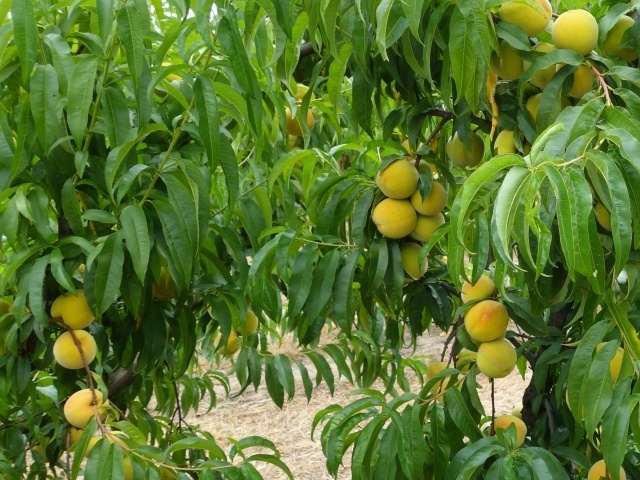peach: (543, 6, 601, 60), (363, 192, 418, 245), (48, 326, 101, 377), (463, 298, 516, 348), (44, 289, 99, 337), (474, 331, 523, 383), (372, 155, 424, 202), (491, 120, 538, 170), (600, 12, 640, 68), (483, 36, 531, 82), (524, 40, 572, 86), (59, 389, 112, 430), (558, 59, 607, 103), (443, 127, 488, 174), (452, 271, 502, 312), (407, 174, 453, 218), (481, 414, 533, 452), (498, 1, 553, 35), (56, 419, 103, 457), (407, 204, 448, 246), (393, 244, 432, 286), (280, 103, 318, 138), (230, 306, 263, 344), (207, 329, 245, 361), (585, 454, 628, 479)
